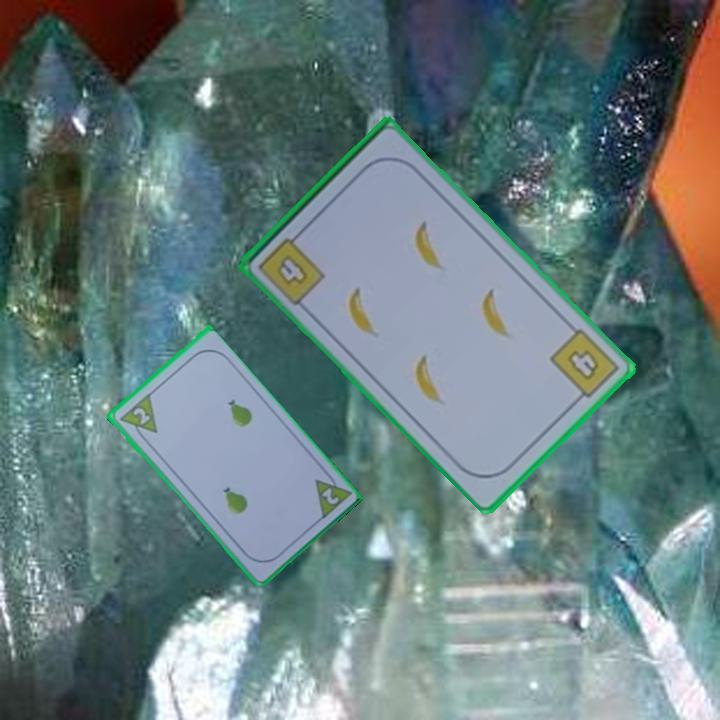2p: (318, 484, 342, 508), (129, 404, 153, 427)
4b: (546, 325, 622, 407), (254, 226, 329, 309)
